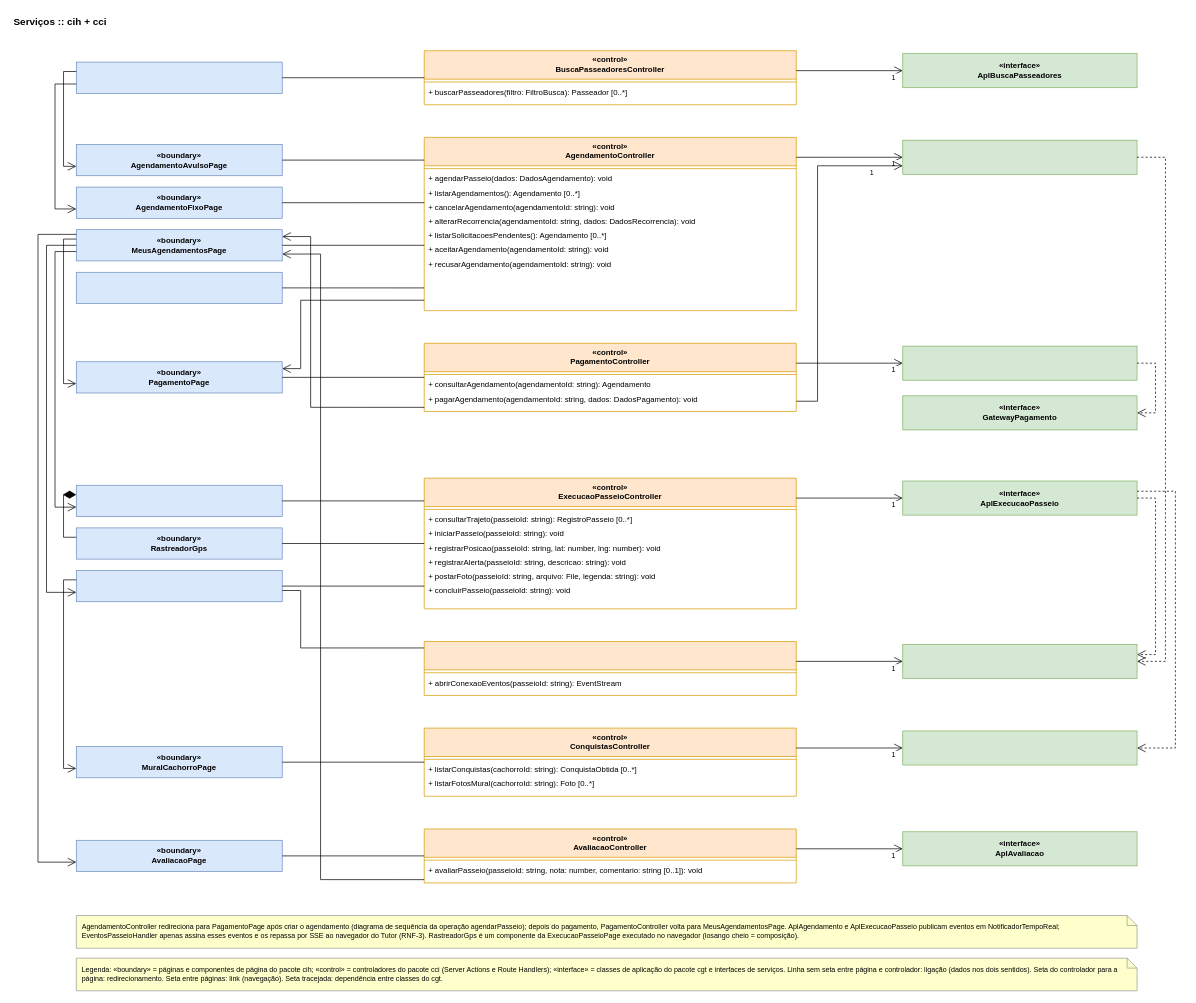
Some shapes in this 1196 by 1003 pixel diagram are drawn without their labels. The box of each missing label's shape, as (x1, y1, x2, y2) in pixels:
«boundary» AcompanhamentoPasseioPage: (76, 570, 282, 602)
«boundary» BuscaPasseadoresPage: (76, 61, 282, 93)
«boundary» ExecucaoPasseioPage: (76, 485, 282, 517)
«boundary» SolicitacoesPendentesPage: (76, 272, 282, 304)
«control» EventosPasseioHandler: (424, 641, 796, 695)
«interface» AplAgendamento: (902, 140, 1137, 174)
«interface» AplConquistas: (902, 730, 1137, 765)
«interface» AplPagamento: (902, 345, 1137, 380)
«interface» NotificadorTempoReal: (902, 644, 1137, 678)
